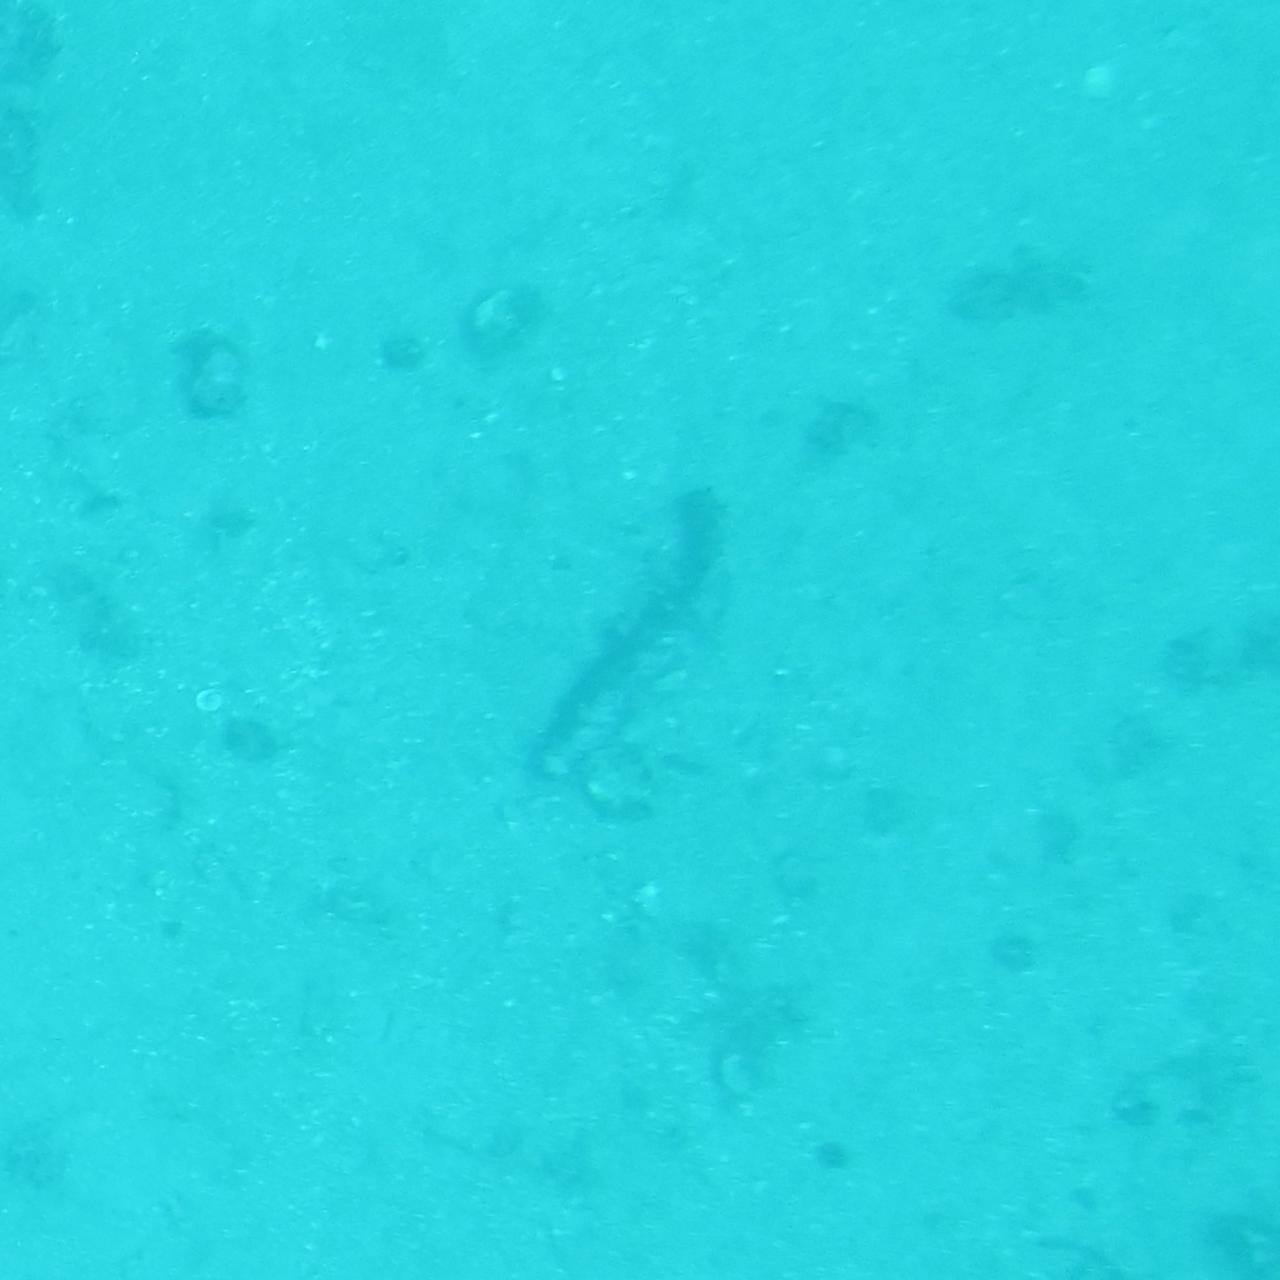Holothuria tubulosa: (532, 475, 748, 805)
